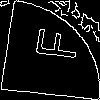F: (25, 24, 80, 62)
